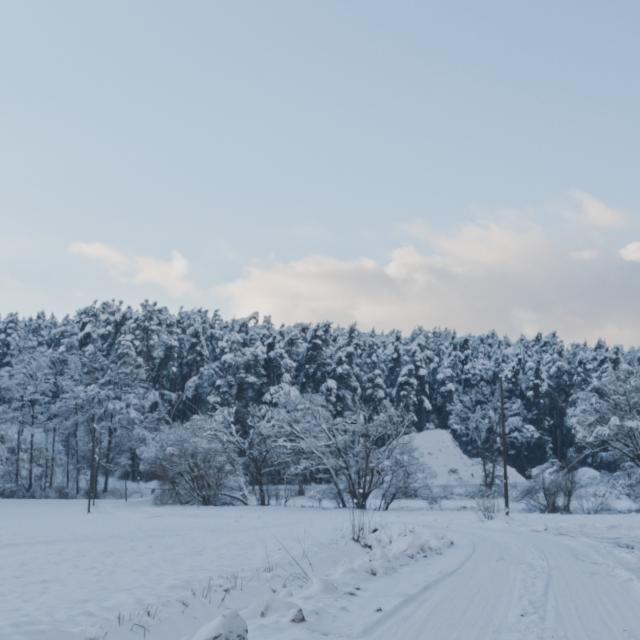Airaplan: (345, 421, 357, 424)
